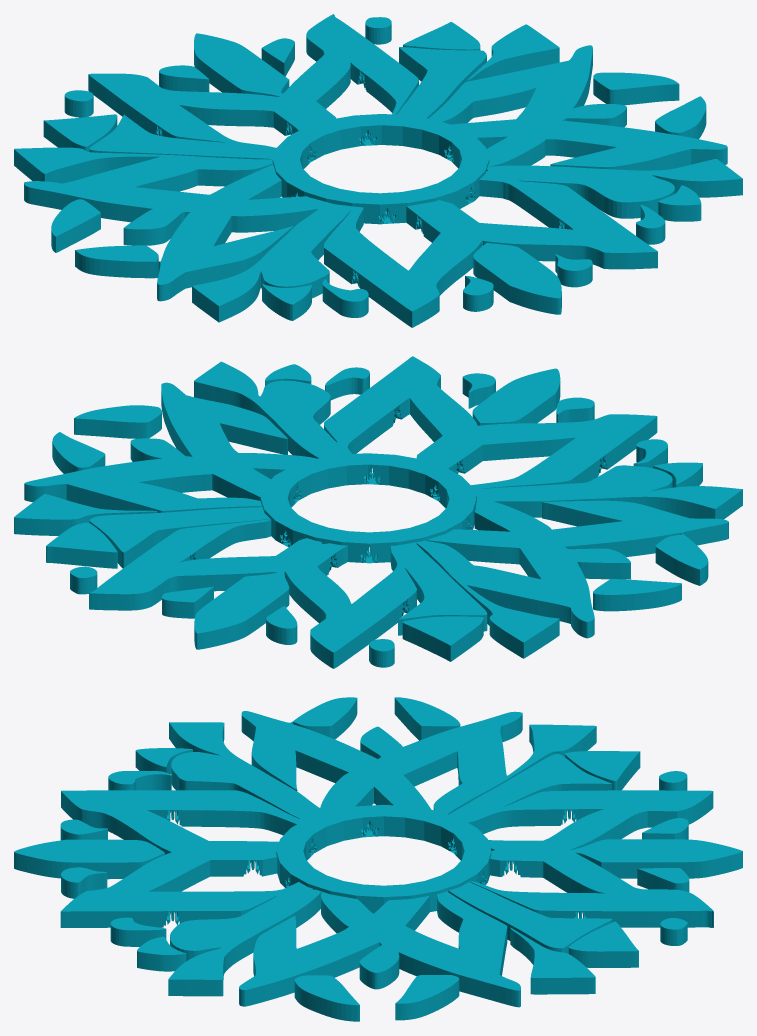
Rendered from snowflake_trans.glb.
The picture shows the model from 3 angles, top to bottom: view 1: azimuth 30°, elevation 25°; view 2: azimuth 150°, elevation 25°; view 3: azimuth 270°, elevation 25°; orthographic projection.
Visible parts, largest first — view 1: Mesh_Mesh_head_geo.001_lambert2SG.001; view 2: Mesh_Mesh_head_geo.001_lambert2SG.001; view 3: Mesh_Mesh_head_geo.001_lambert2SG.001.
Part boxes in pixels (left/top/right/bottom): Mesh_Mesh_head_geo.001_lambert2SG.001: left=14, top=14, right=742, bottom=327; Mesh_Mesh_head_geo.001_lambert2SG.001: left=14, top=356, right=742, bottom=668; Mesh_Mesh_head_geo.001_lambert2SG.001: left=14, top=697, right=742, bottom=1021.
Size of the model in its own units: 200 by 6 by 200.
